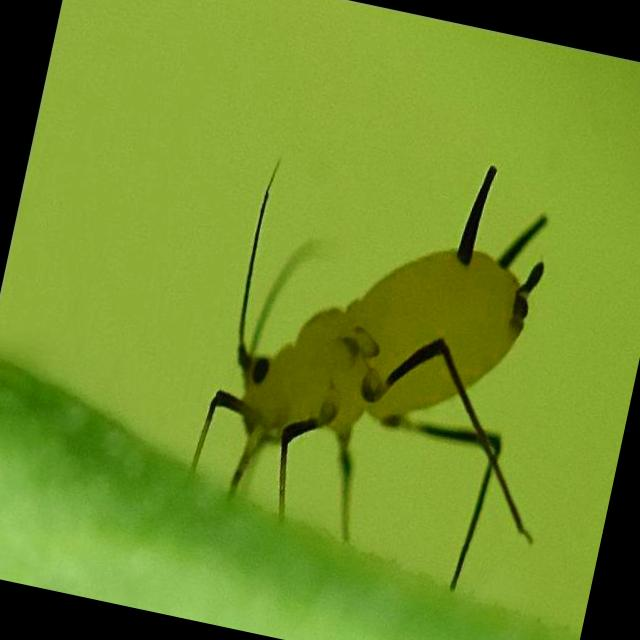aphid: (152, 80, 603, 598)
